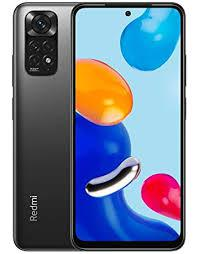Smartphone: (72, 3, 185, 247), (15, 8, 87, 250)
